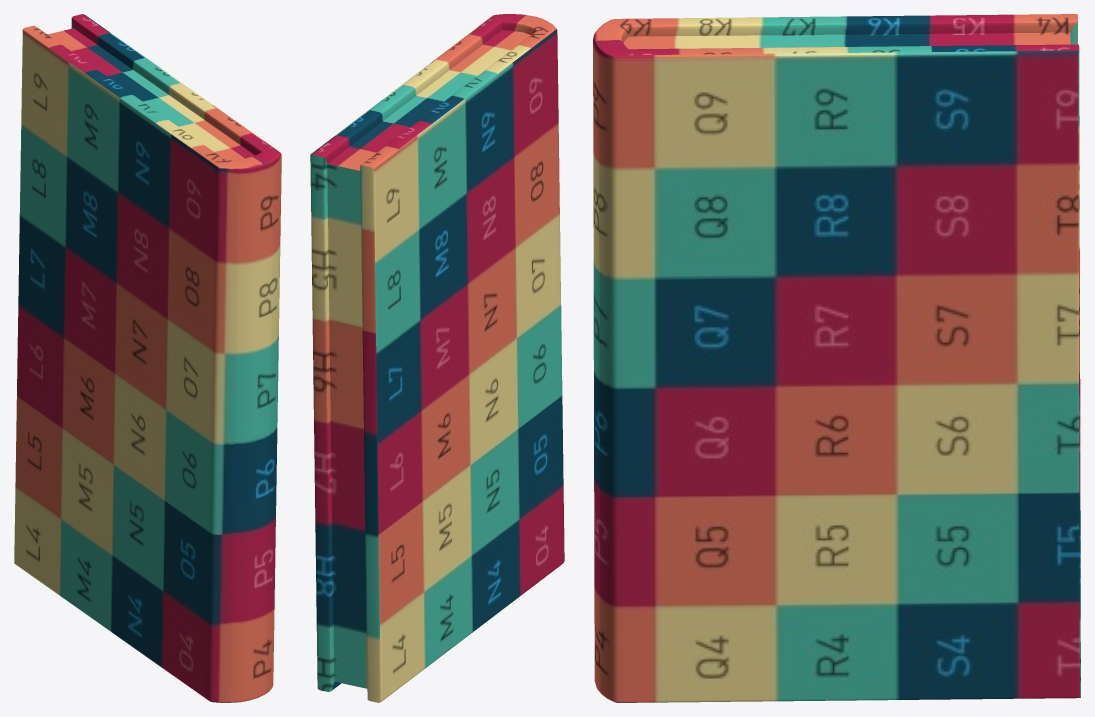
Rendered from book_4.fbx.
The picture shows the model from 3 angles, left to right: view 1: azimuth 30°, elevation 25°; view 2: azimuth 150°, elevation 25°; view 3: azimuth 270°, elevation 25°; orthographic projection. The views are drawn at different scales.
Parts seen in each view (by area): view 1: book_4; view 2: book_4; view 3: book_4.
Boxes of the visible parts, x1,y1,x2,y2 form: book_4: (14,14,281,702); book_4: (310,14,564,702); book_4: (593,14,1080,702).
Size of the model in its own units: 3.2 by 20.85 by 14.09.
